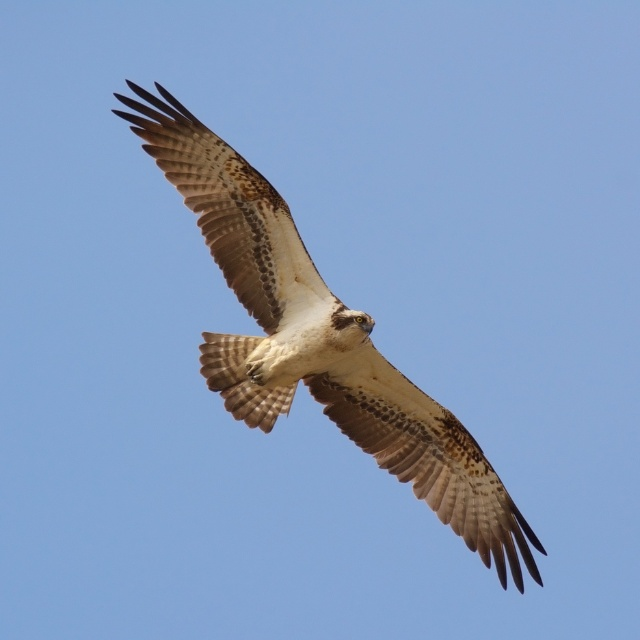Eagle: (104, 63, 548, 610)
